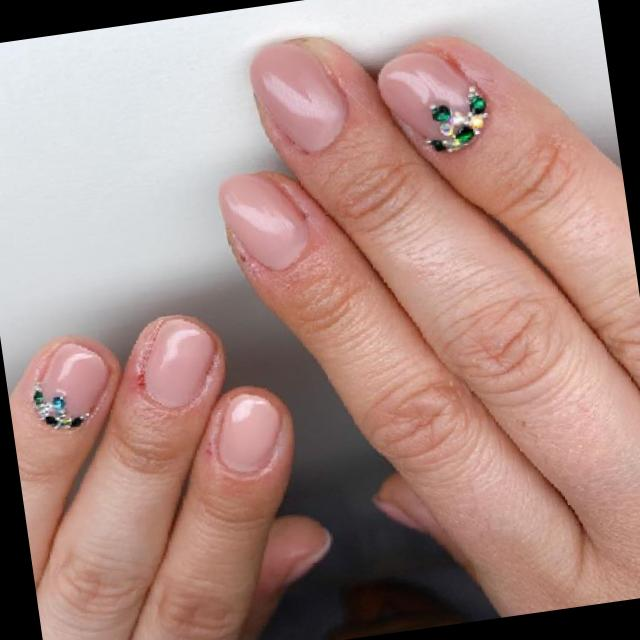Nail: (377, 51, 487, 151), (249, 42, 347, 151), (219, 173, 308, 269), (142, 317, 215, 407), (32, 342, 108, 428), (217, 393, 280, 473)
